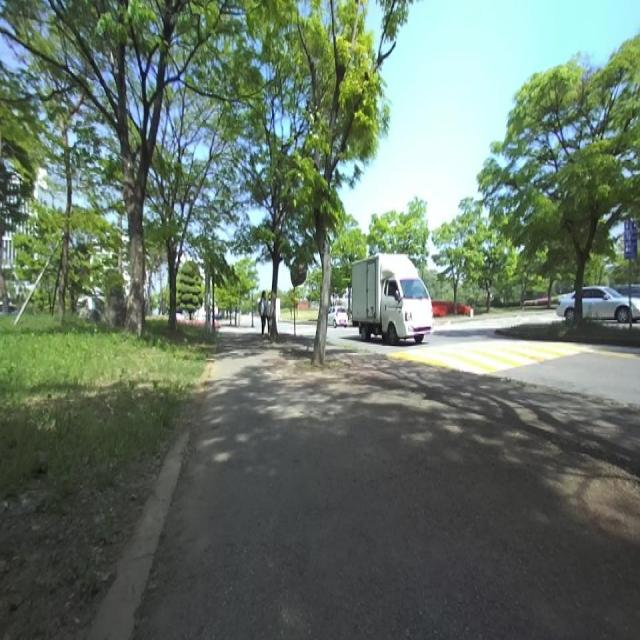sidewalk: (134, 333, 640, 639)
